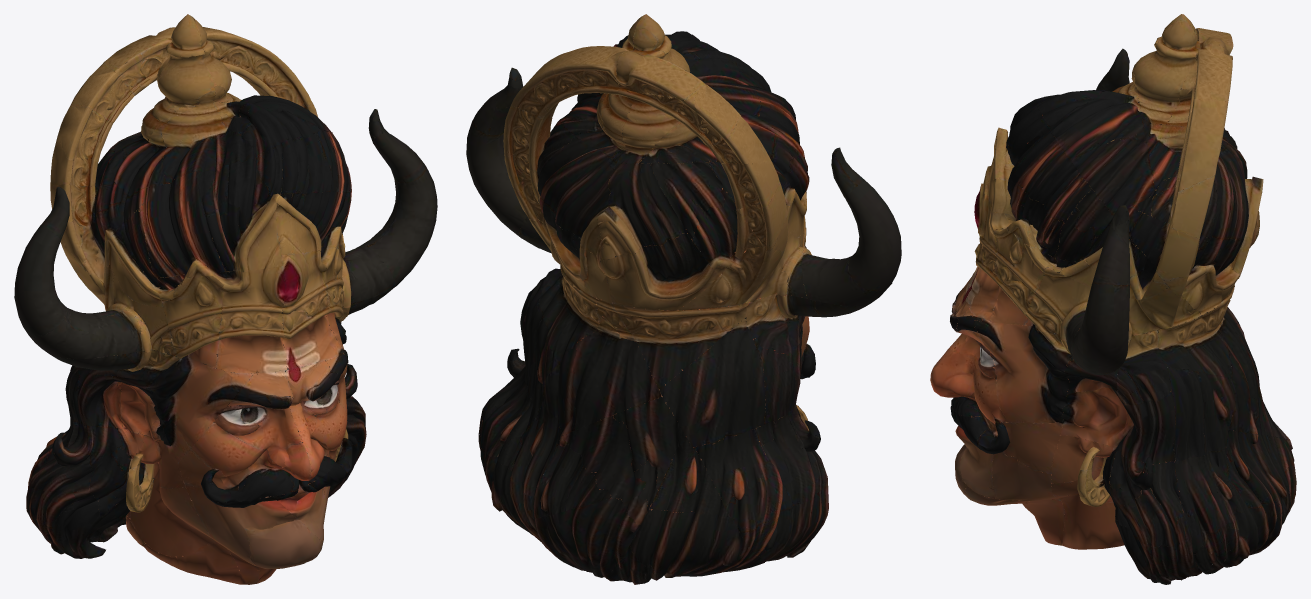
The model's file is head-pixar-web.glb.
3 views of the same model, side by side, from view 1: azimuth 30°, elevation 25°; view 2: azimuth 150°, elevation 25°; view 3: azimuth 270°, elevation 25° (orthographic). The views are drawn at different scales.
Parts seen in each view (by area): view 1: mesh_node; view 2: mesh_node; view 3: mesh_node.
Boxes of the visible parts, x1,y1,x2,y2 form: mesh_node: (14, 14, 437, 584); mesh_node: (466, 14, 901, 584); mesh_node: (930, 14, 1296, 584).
Bounding box in the file's own units: 1.57 × 1.9 × 1.19.
Materials: 1 (1 with a texture image).
